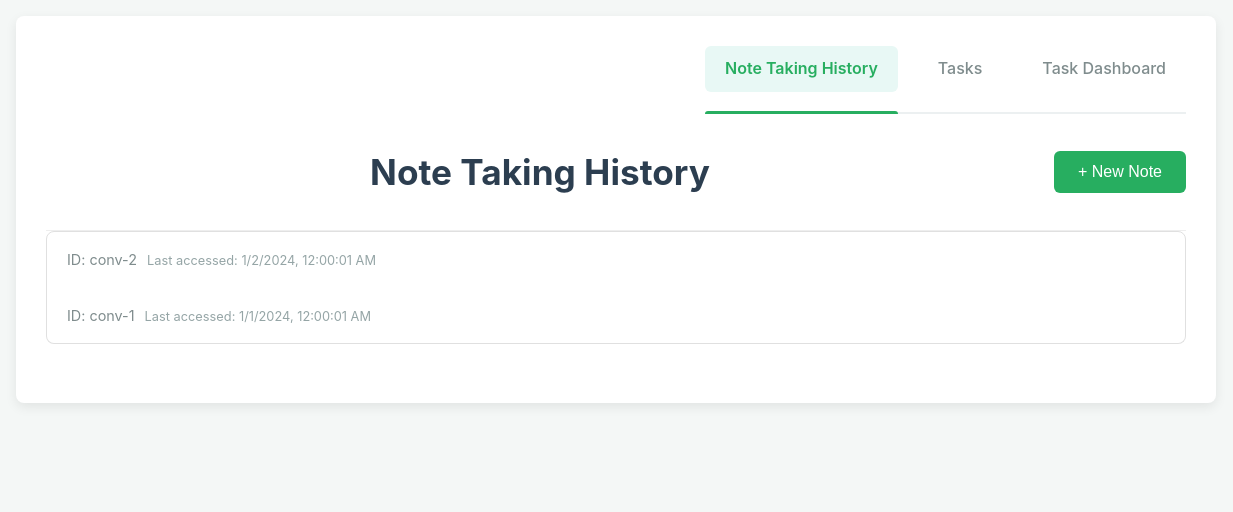
Test: ConversationListView › New conversation creation (standalone mode) › shows error message when creation fails
Step 1. Click the button "+ New Note" → click(1120, 172), box [1054, 151, 1186, 193]
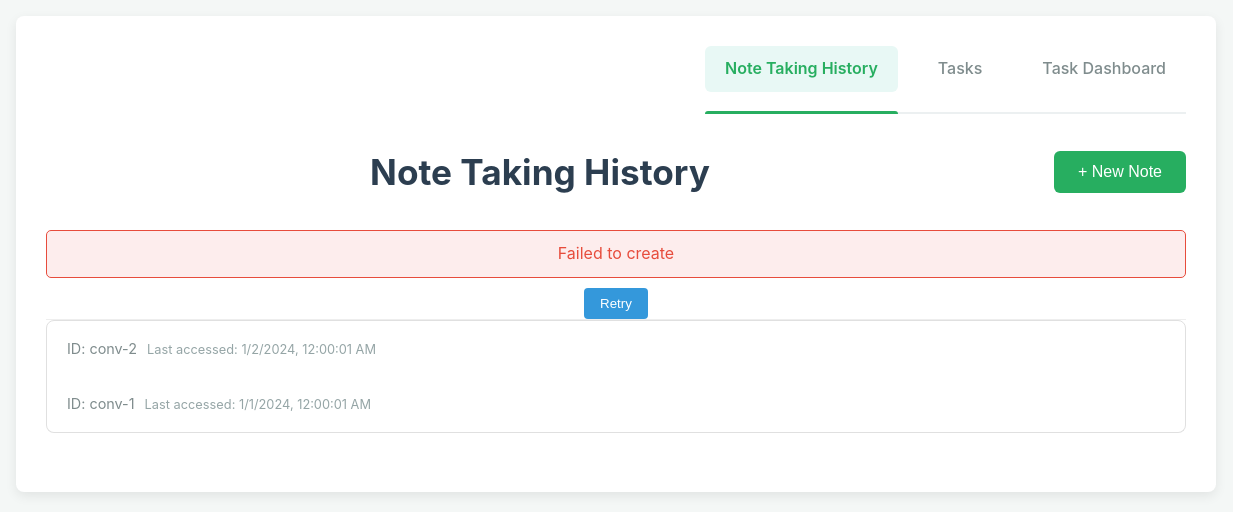
Expected: the text "Failed to create" is shown, [46, 230, 1186, 278]
